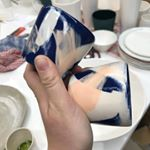cups: (20, 3, 97, 87), (64, 60, 133, 130)
